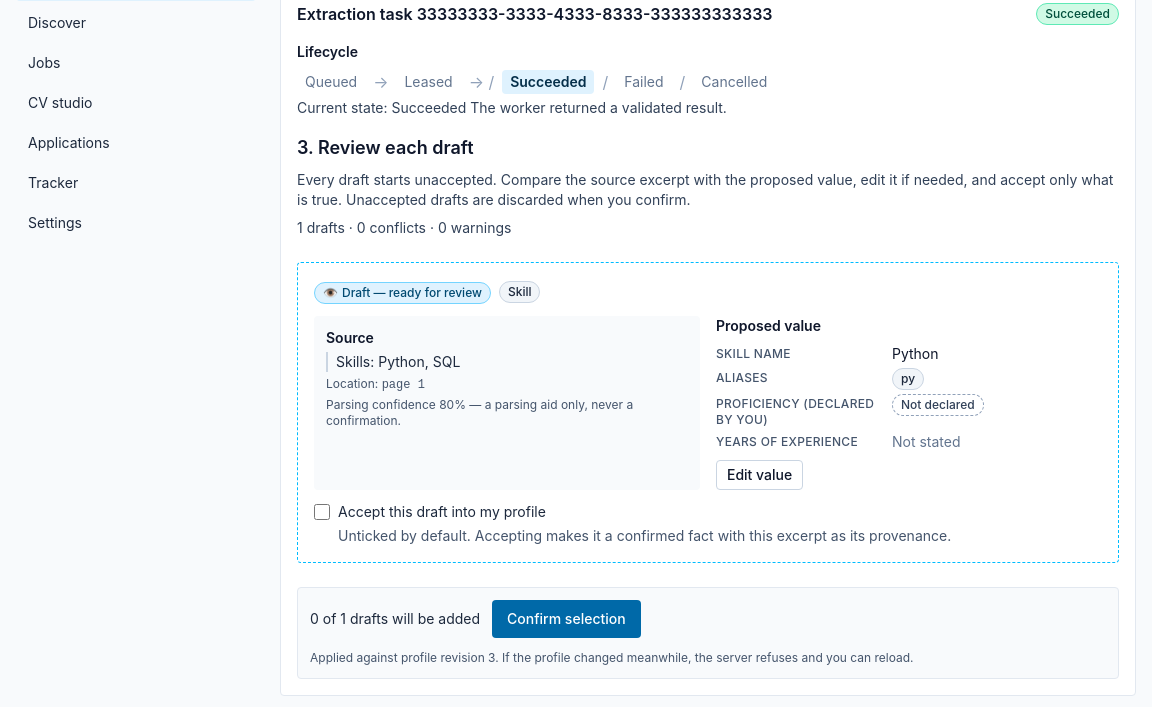
Test: import review screen › starts every draft unaccepted and sends an edited value only after opt-in
The width and height of the screenshot is (1152, 707).
(page scrolled)
expect the element with test id "import-review" is shown: met, box [297,134,1119,679]
expect the text with test id "accepted-count" reads "0 of 1 drafts will be added": met, box [310,610,480,627]
Click the button "Edit value" at (760, 475), box [716,460,803,490]
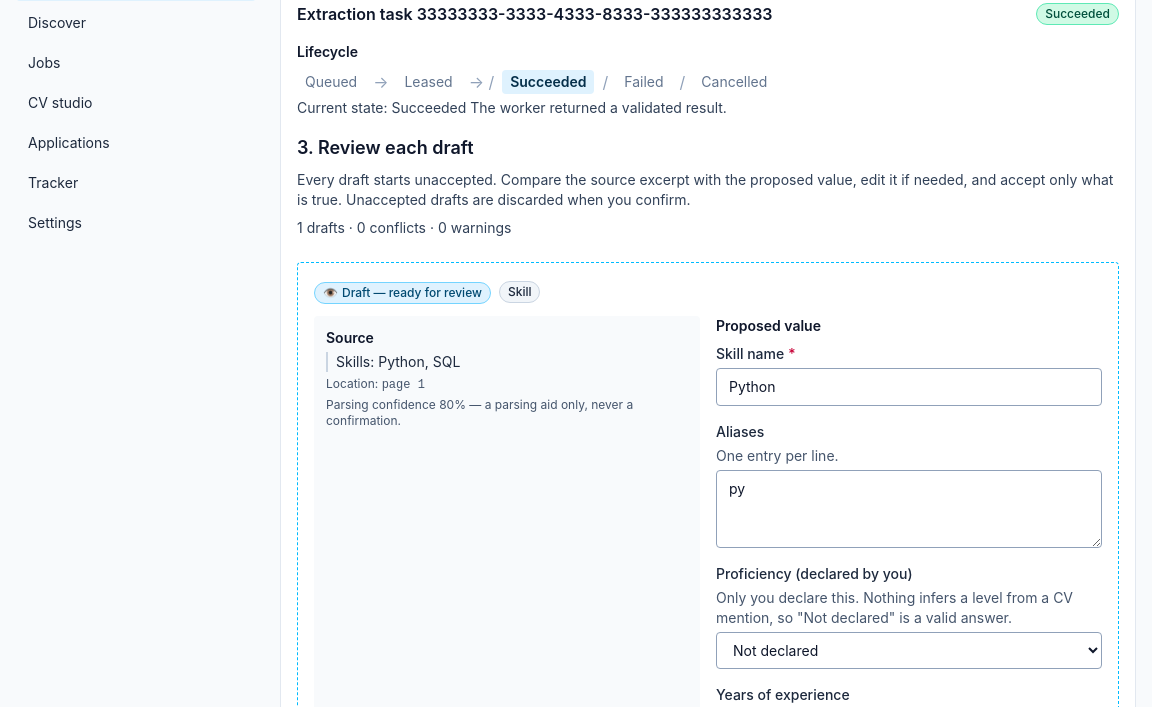
Replace the text in the field labelled "Skill name*" with "Python 3" at (909, 387), box [716,368,1102,406]
(page scrolled)
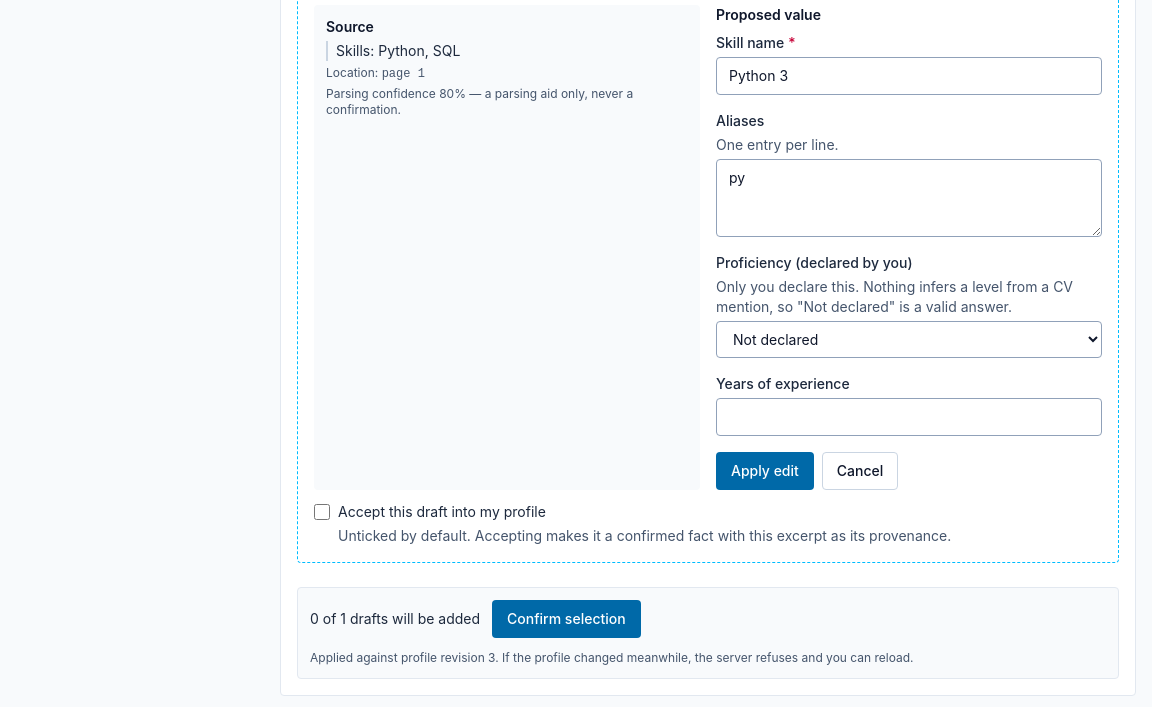
Click the button "Apply edit" at (765, 471), box [716,452,814,490]
(page scrolled)
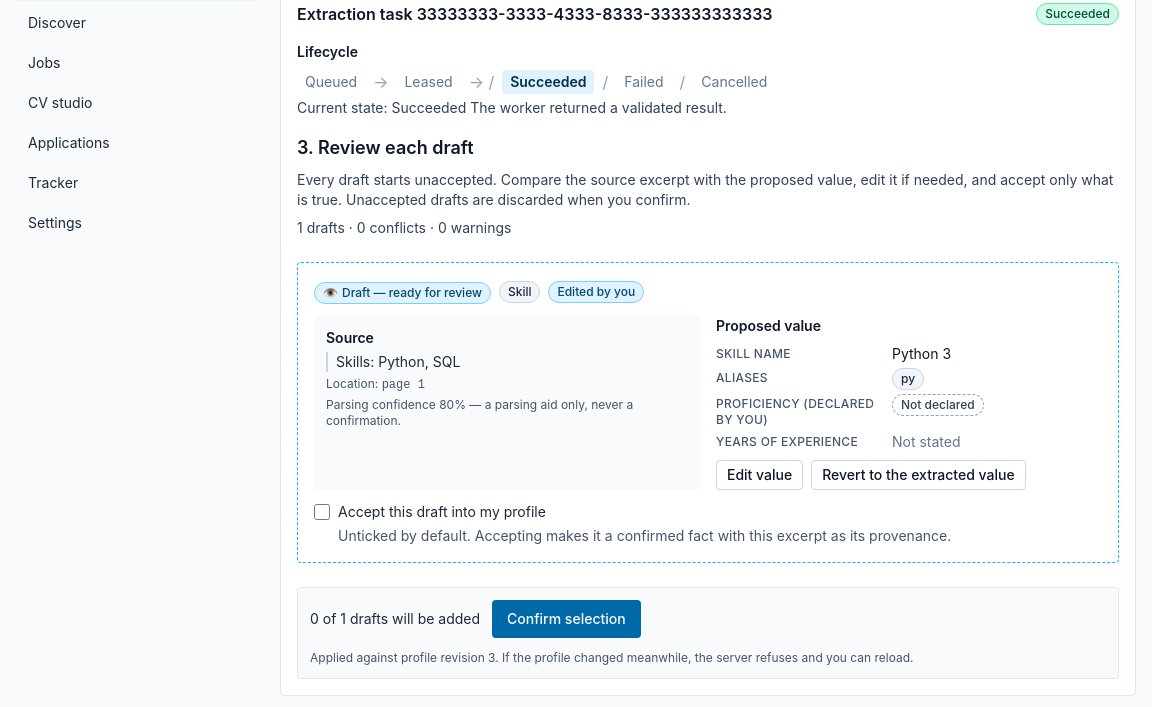
expect the text "Edited by you" is shown: met, box [548,280,644,302]
expect the text "Python 3" is shown: met, box [892,345,951,362]
Click the checkbox labelled "Accept this draft into my profile" at (322, 512), box [314,504,330,520]
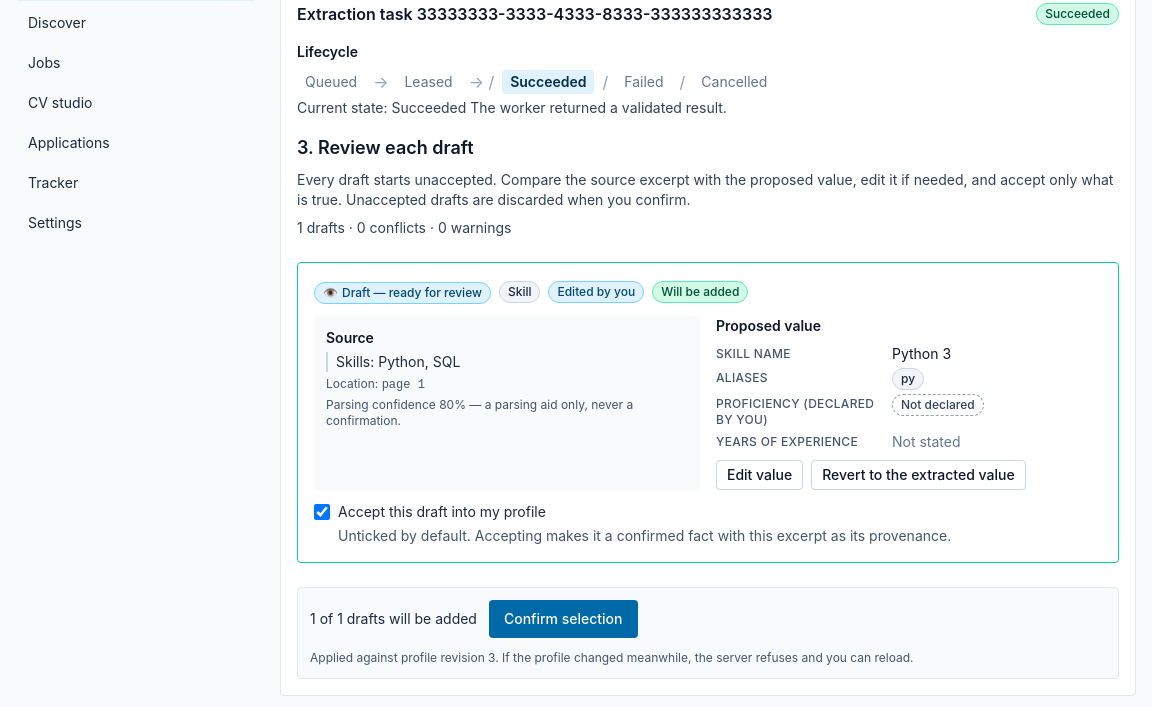
expect the text with test id "accepted-count" reads "1 of 1 drafts will be added": met, box [310,610,477,627]
Click the button "Confirm selection" at (563, 619), box [489,600,638,638]
(page scrolled)
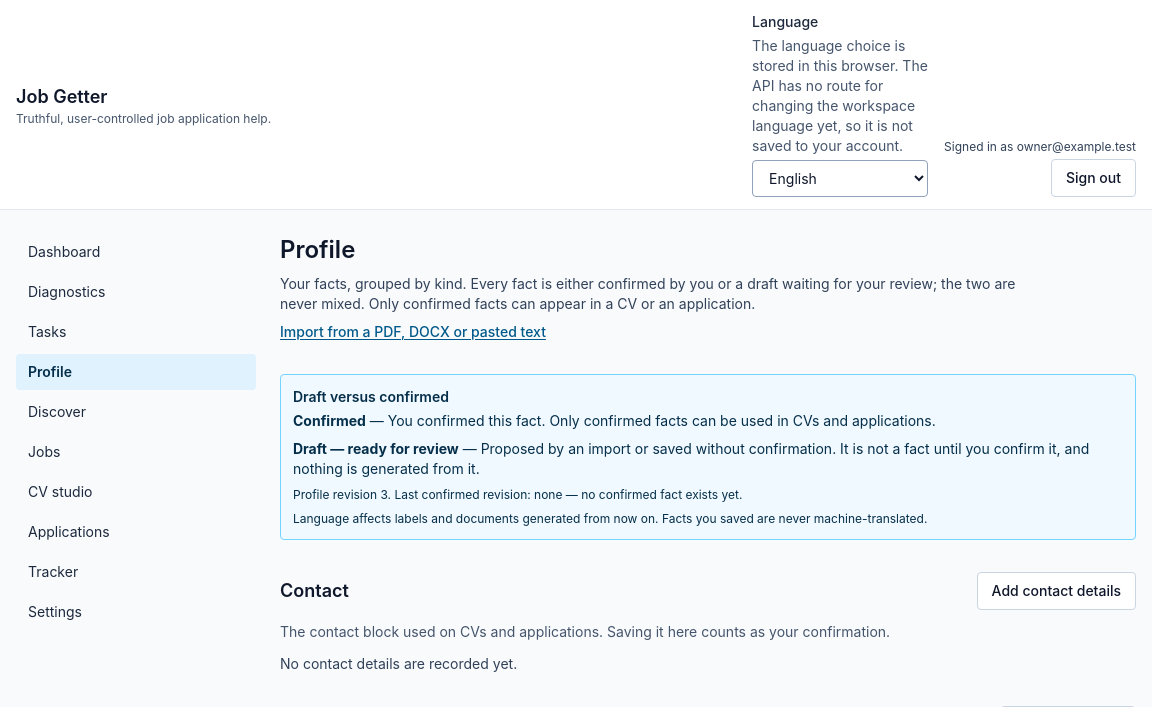
expect the heading "Profile" is shown: met, box [280,235,355,264]
